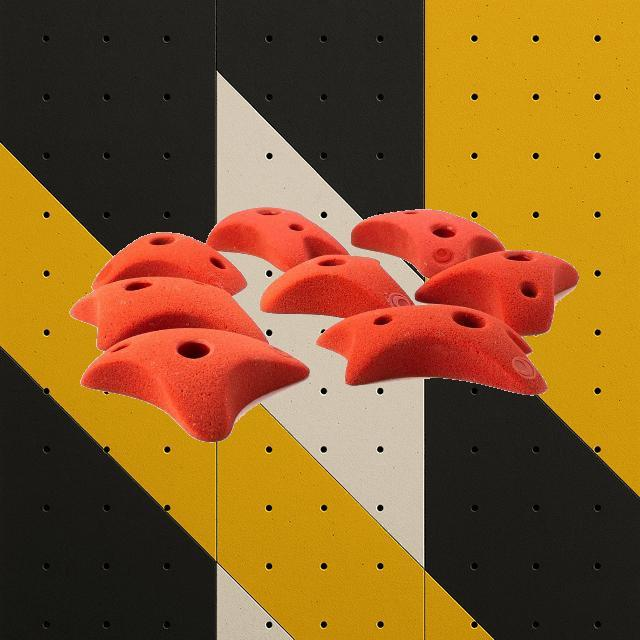Pinch: (78, 328, 308, 442), (314, 302, 548, 396), (68, 278, 270, 350), (416, 248, 578, 336), (349, 208, 505, 278), (87, 230, 247, 296), (204, 205, 348, 272), (260, 257, 410, 319)
